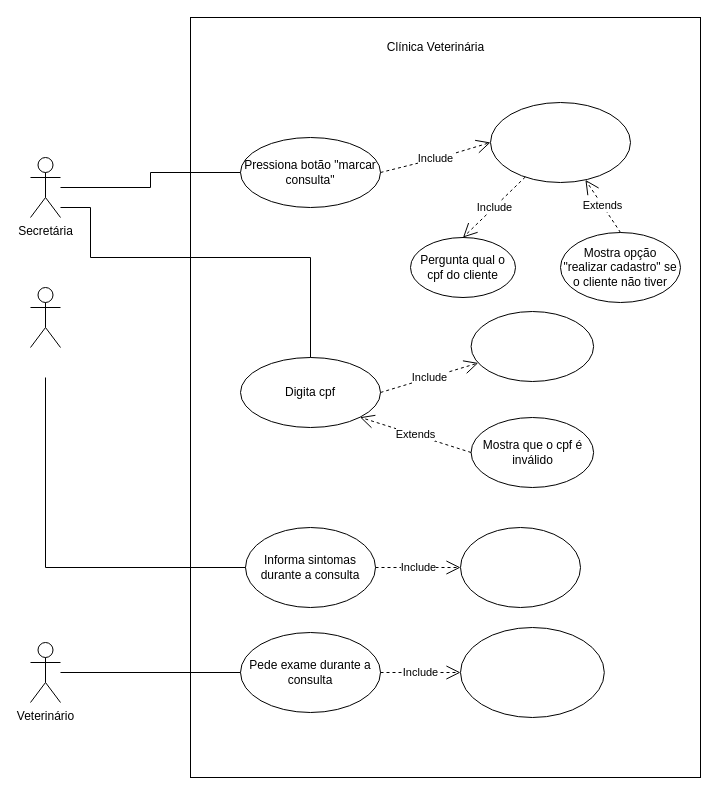
The diagram is 718 pixels wide and 795 high, and some of its shapes have lost their labels. The shapes that lost their labels are listed below. From the top down, each one's centre as x and y in pixels, then its label:
At pixel 560 142: "Pergunta se o cliente já tem cadastro".
At pixel 45 317: "Cliente".
At pixel 532 346: "Valida e permite marcar consulta".
At pixel 520 567: "Sintomas são registrados junto as informações sobre a consulta".
At pixel 532 672: "Exame pedido é registrado junto as informações sobre a consulta".
